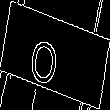O_N: (38, 25, 72, 85)
